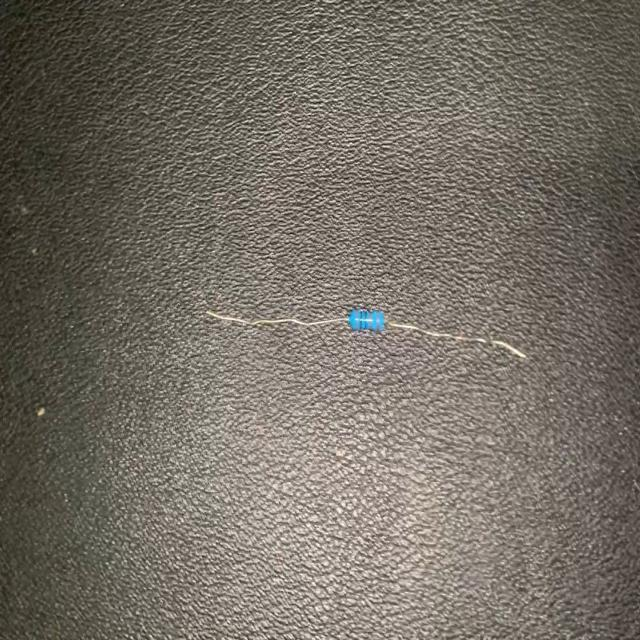resistor: (202, 299, 529, 365)
